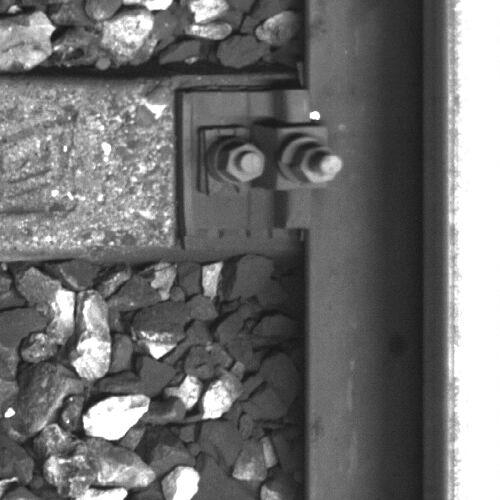kb: (190, 92, 343, 225)
nut: (215, 141, 267, 183), (293, 145, 342, 185)
rail: (446, 1, 500, 500)
tie_concr: (1, 77, 304, 247)
